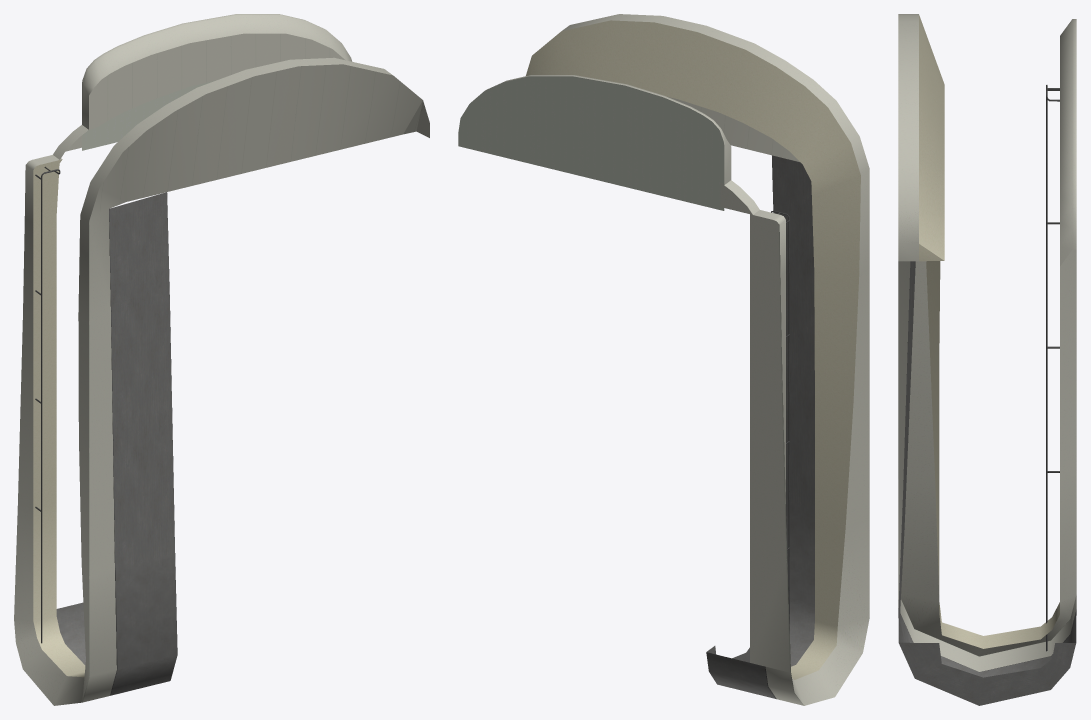
Rendered from nt_2020_red_house_roof_shell_LOD1.obj.
The picture shows the model from 3 angles, left to right: view 1: azimuth 30°, elevation 25°; view 2: azimuth 150°, elevation 25°; view 3: azimuth 270°, elevation 25°; orthographic projection. The views are drawn at different scales.
Parts seen in each view (by area): view 1: hjk_interior_plastic_tile, metal_stainless_steel_groves_editor, hjk_interior_plastic_tile_02, plastic_panel_off_white, metal_chrome_boat; view 2: hjk_interior_plastic_tile_02, hjk_interior_plastic_tile, plastic_panel_off_white, metal_stainless_steel_groves_editor, metal_chrome_boat; view 3: hjk_interior_plastic_tile, hjk_interior_plastic_tile_02, metal_stainless_steel_groves_editor, metal_chrome_boat.
Part boxes in pixels (box(x1,y1,x2,y2)): hjk_interior_plastic_tile: box(14, 14, 429, 705); metal_stainless_steel_groves_editor: box(56, 192, 177, 695); hjk_interior_plastic_tile_02: box(33, 159, 85, 677); plastic_panel_off_white: box(82, 80, 215, 150); metal_chrome_boat: box(35, 166, 60, 643); hjk_interior_plastic_tile_02: box(526, 20, 860, 679); hjk_interior_plastic_tile: box(485, 14, 869, 705); plastic_panel_off_white: box(458, 76, 724, 210); metal_stainless_steel_groves_editor: box(706, 155, 814, 699); metal_chrome_boat: box(771, 210, 789, 633); hjk_interior_plastic_tile: box(898, 14, 1076, 671); hjk_interior_plastic_tile_02: box(919, 15, 1059, 648); metal_stainless_steel_groves_editor: box(898, 261, 1076, 705); metal_chrome_boat: box(1046, 85, 1059, 651).
Bounding box in the file's own units: 1123 × 1936 × 442.
